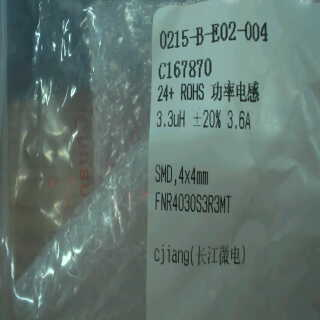3.3uH: (153, 108, 190, 129)
